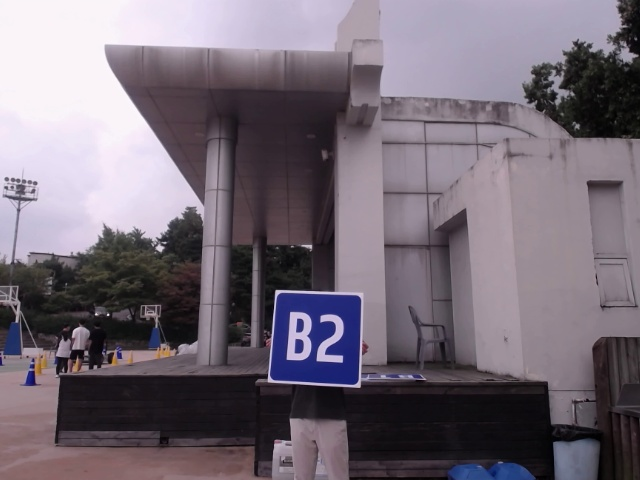delivery_b2: (269, 288, 362, 388)
